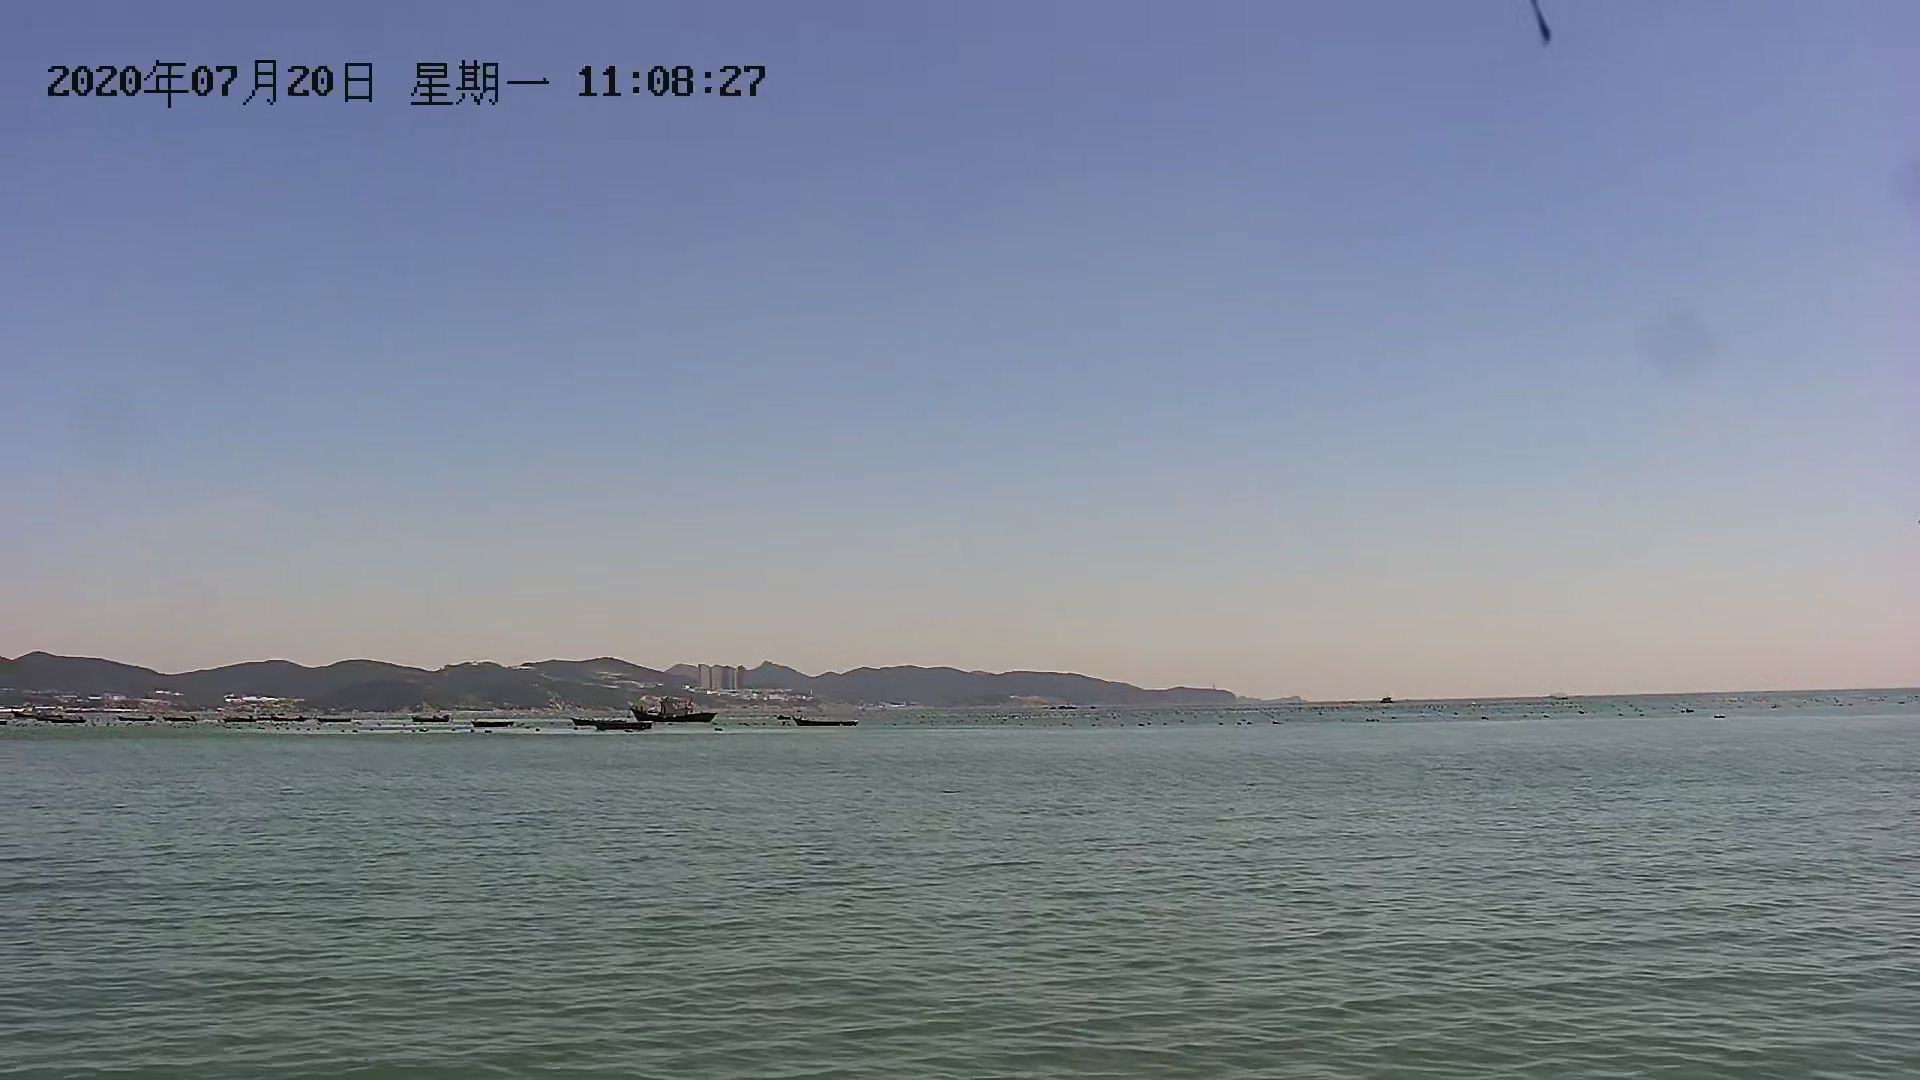boat: (634, 704, 723, 728), (782, 713, 864, 735), (582, 716, 641, 735)
